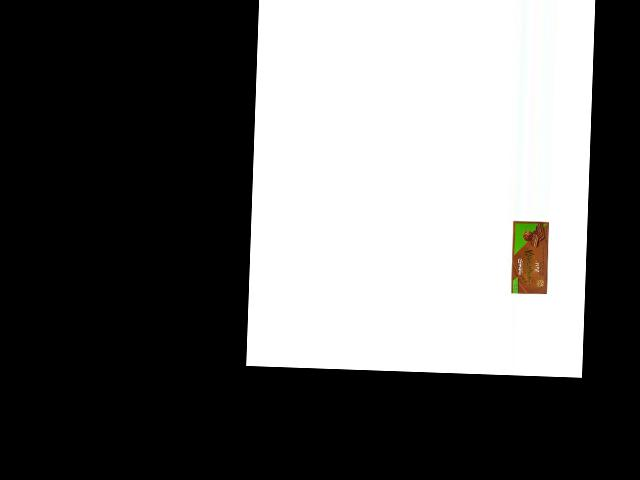chocolate: (509, 219, 552, 297)
